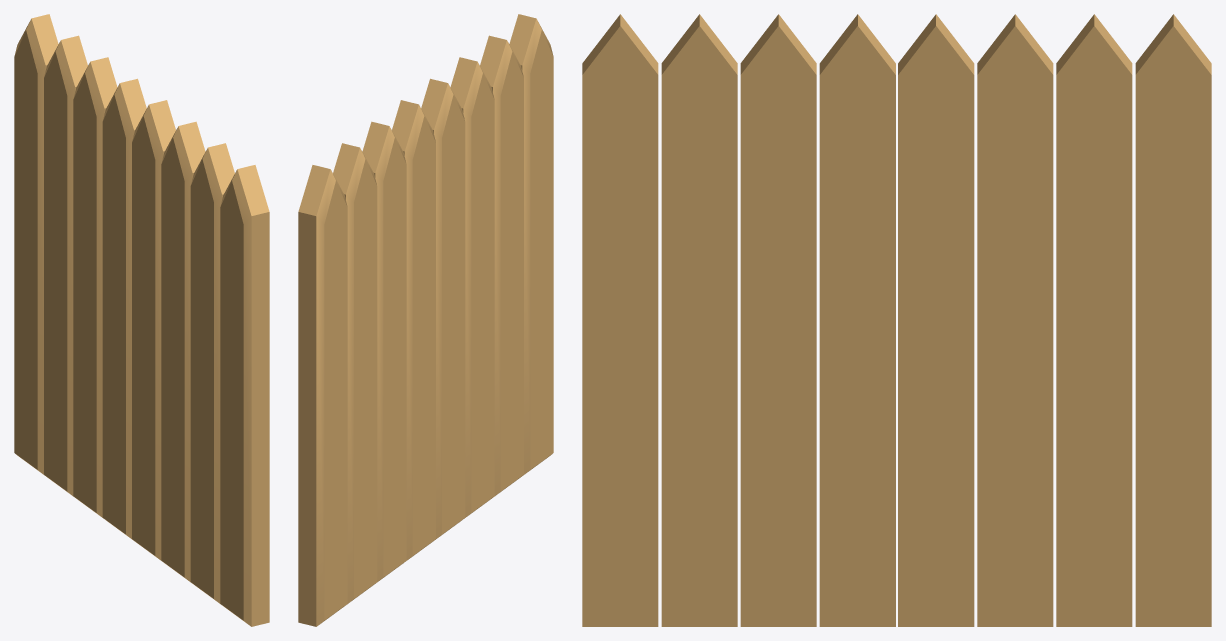
Rendered from Valla.fbx.
3 views of the same model, side by side, from view 1: azimuth 30°, elevation 25°; view 2: azimuth 150°, elevation 25°; view 3: azimuth 270°, elevation 25° (orthographic). The views are drawn at different scales.
Parts seen in each view (by area): view 1: Cube.004; view 2: Cube.004; view 3: Cube.004.
Part boxes in pixels (<box>): Cube.004: <box>14,14,269,626</box>; Cube.004: <box>298,14,553,626</box>; Cube.004: <box>582,14,1211,626</box>.
Bounding box in the file's own units: 43.11 × 786 × 745.
